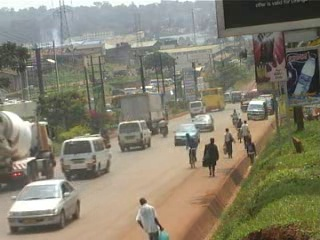Car: (5, 176, 82, 236), (173, 120, 201, 147), (188, 112, 215, 133)
Motorcycle: (156, 116, 170, 137), (228, 106, 240, 128)
